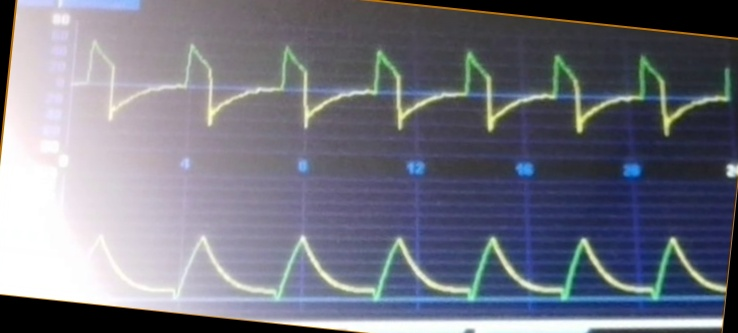Flow: (76, 40, 730, 147)
Leakage Volume: (75, 228, 717, 308)
